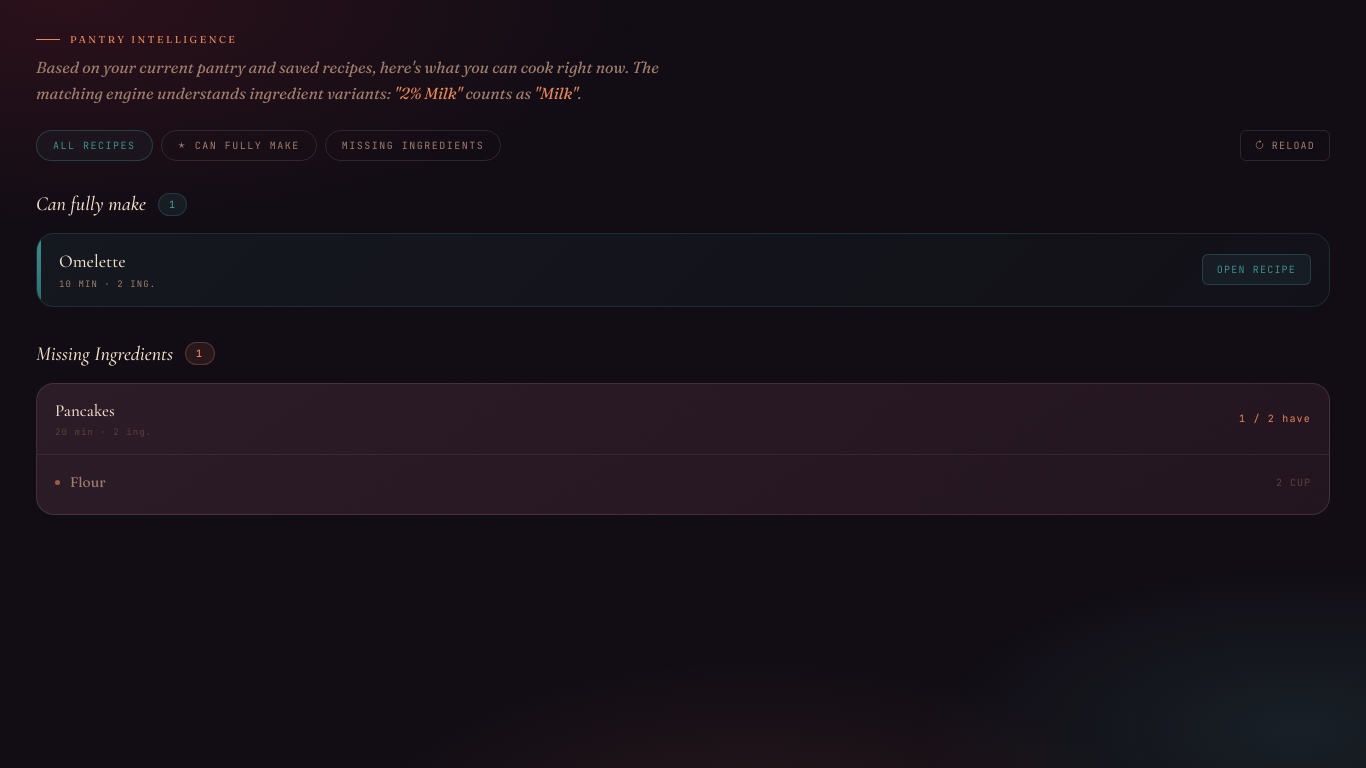
Test case: filter buttons › clicking "Can Fully Make" hides the missing section
Click the button "🟉 Can Fully Make" at x=239, y=146, box x1=160 y1=130 x2=317 y2=161
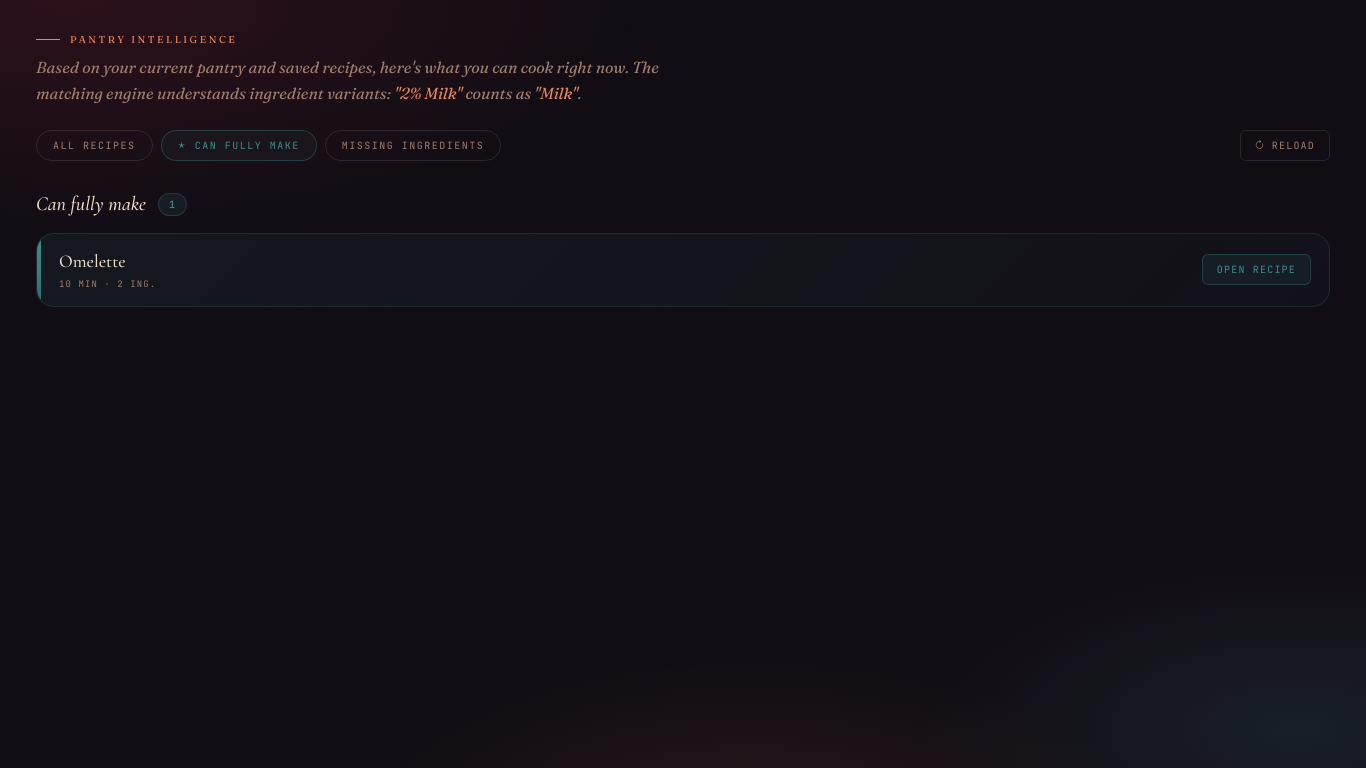
expect the element with id "wcim-missing-section" is gone: met
